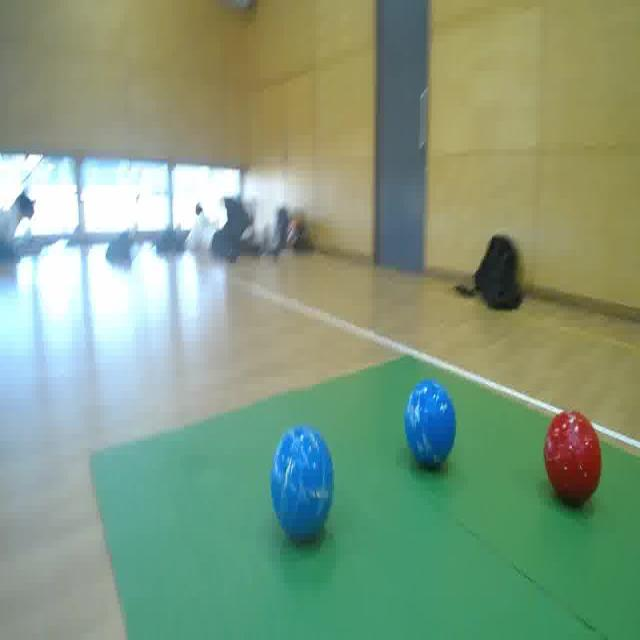blue_ball: (267, 417, 336, 550), (402, 378, 458, 475)
red_ball: (541, 404, 603, 512)
